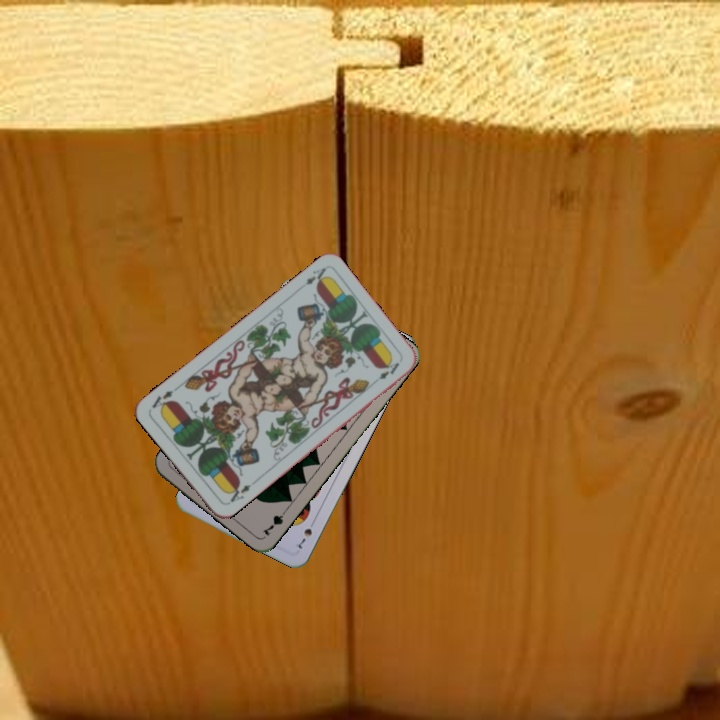EA: (224, 480, 254, 507), (301, 264, 330, 289)
G7: (258, 504, 291, 538)
S7: (292, 516, 318, 552)
